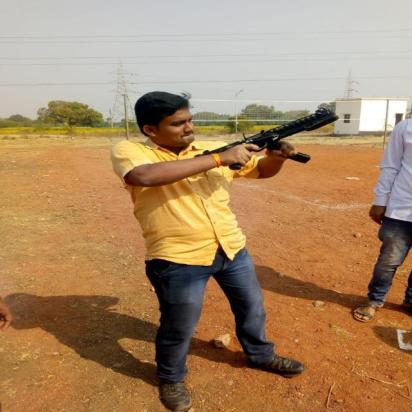Gun: (192, 107, 340, 171)
